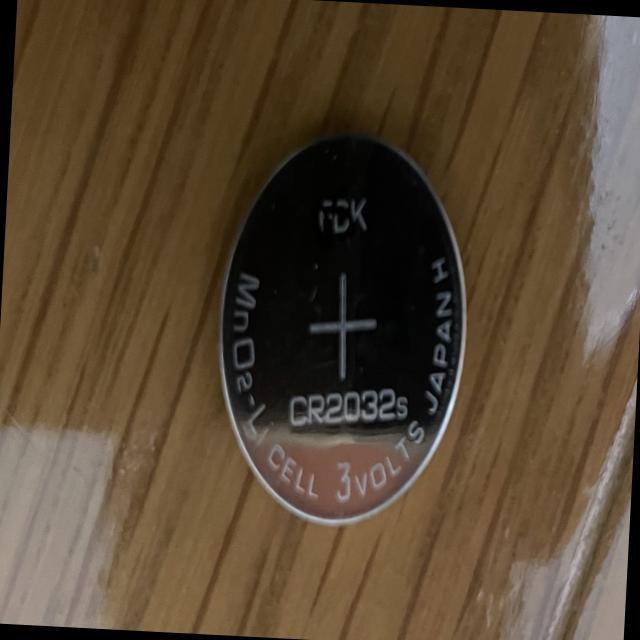COIN: (206, 119, 479, 531)
